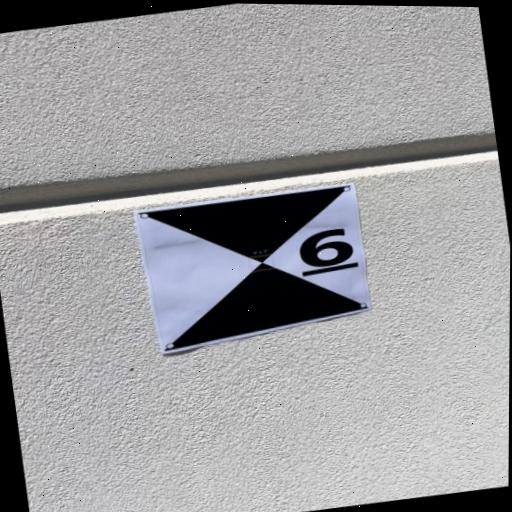target6: (136, 183, 374, 355)
